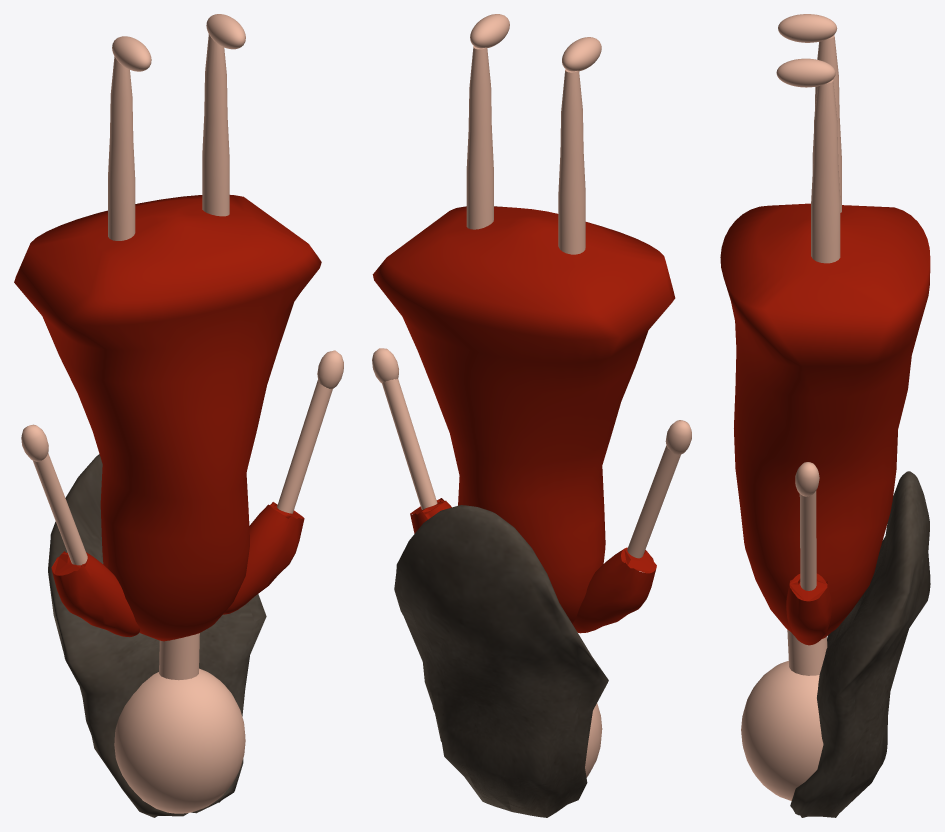
Rendered from mmp.glb.
The picture shows the model from 3 angles, left to right: view 1: azimuth 30°, elevation 25°; view 2: azimuth 150°, elevation 25°; view 3: azimuth 270°, elevation 25°; orthographic projection. The views are drawn at different scales.
Visible parts, largest first — view 1: Cylinder005 (×7); view 2: Cylinder005 (×6); view 3: Cylinder005 (×7).
Boxes of the visible parts, box(x1,y1,x2,y2) form: Cylinder005 (×7): box(14, 14, 343, 817); Cylinder005 (×6): box(372, 14, 691, 817); Cylinder005 (×7): box(720, 14, 930, 817).
Bounding box in the file's own units: 14.74 × 34.4 × 8.57.
Materials: 7 (7 with a texture image).
